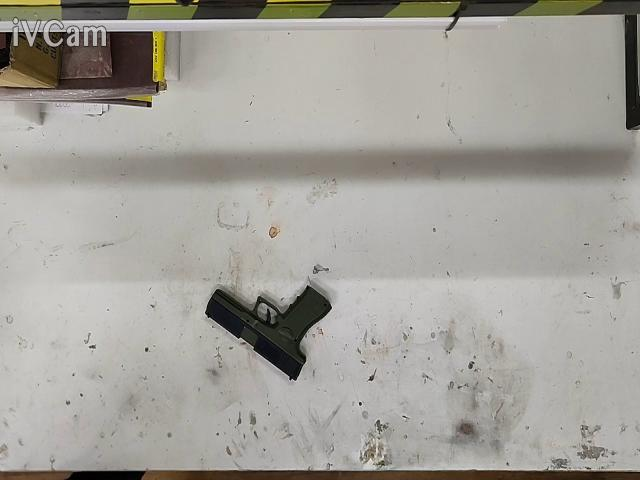Gun: (205, 285, 331, 379)
